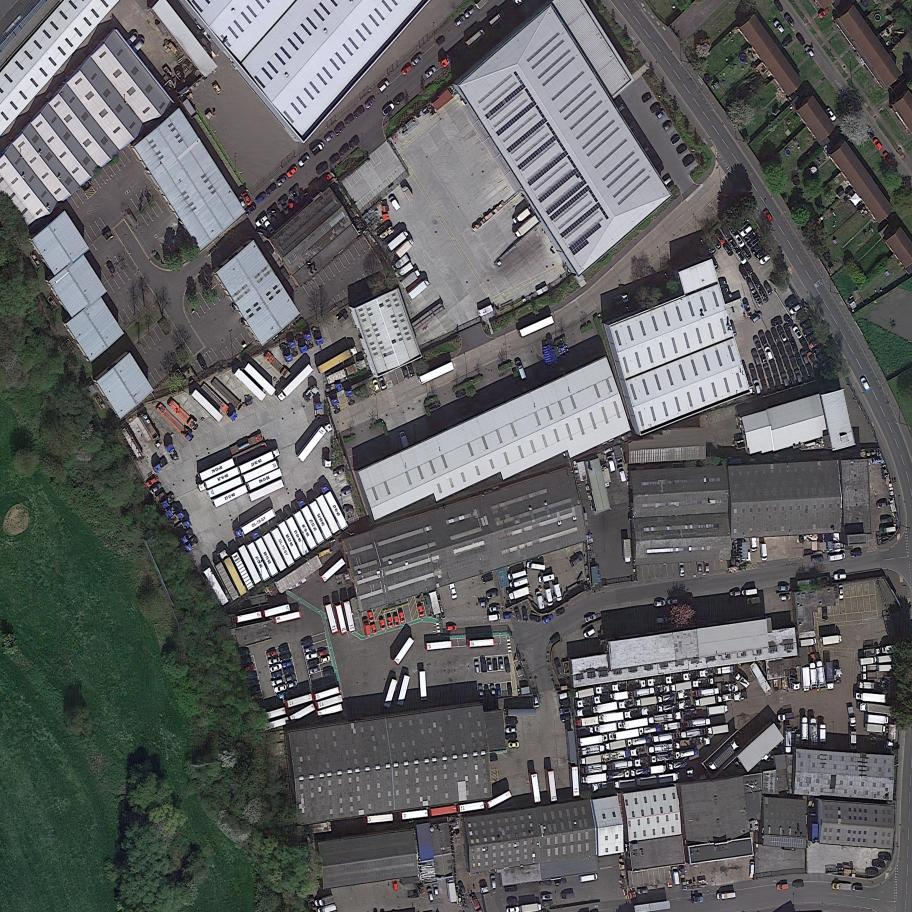large-vehicle: (295, 419, 335, 464), (198, 382, 239, 423), (154, 403, 196, 443), (318, 482, 351, 531), (275, 363, 315, 403), (231, 507, 278, 540), (217, 549, 248, 598), (250, 530, 280, 579), (296, 497, 326, 546), (315, 344, 360, 375), (196, 465, 242, 493), (237, 446, 282, 474), (705, 738, 741, 772), (167, 398, 201, 432), (418, 361, 456, 385), (138, 412, 163, 448), (518, 315, 555, 338), (392, 636, 417, 667), (319, 557, 348, 583), (513, 214, 541, 240), (406, 276, 433, 302), (856, 700, 895, 717), (288, 703, 317, 724), (484, 789, 513, 810), (386, 228, 411, 252), (464, 26, 489, 49), (258, 716, 290, 733), (400, 268, 424, 290), (394, 237, 417, 259), (383, 678, 399, 709), (324, 603, 339, 635), (853, 690, 887, 704), (316, 703, 344, 720), (285, 693, 314, 709), (397, 674, 411, 707), (616, 717, 649, 731), (608, 728, 640, 742), (511, 207, 533, 227), (263, 603, 292, 618), (314, 686, 341, 702), (487, 9, 508, 29), (316, 695, 344, 710), (579, 734, 609, 748), (601, 749, 631, 763), (394, 261, 416, 280), (343, 601, 356, 632), (335, 604, 348, 635), (390, 253, 411, 272), (274, 611, 302, 625), (261, 707, 287, 722), (732, 671, 752, 690), (592, 701, 619, 715), (577, 744, 606, 757), (530, 773, 542, 804), (651, 731, 679, 744), (581, 763, 609, 776), (679, 727, 707, 740), (547, 770, 558, 803), (399, 809, 429, 821), (236, 611, 263, 624), (445, 877, 458, 904), (598, 711, 625, 724), (508, 586, 531, 601), (626, 735, 652, 748), (580, 773, 608, 785), (429, 805, 457, 817), (457, 801, 485, 813), (508, 576, 530, 591), (364, 813, 394, 824), (593, 722, 618, 735), (647, 742, 674, 754), (816, 660, 827, 689), (648, 713, 674, 725), (674, 748, 700, 760), (649, 752, 675, 764), (400, 184, 416, 203), (639, 724, 662, 737), (707, 723, 730, 736), (604, 739, 627, 752), (572, 686, 595, 699), (670, 680, 693, 693), (694, 695, 717, 708), (800, 666, 811, 693), (426, 640, 453, 651), (468, 638, 495, 649), (507, 568, 528, 582), (314, 894, 335, 908), (865, 714, 889, 726), (607, 769, 631, 781), (579, 754, 603, 766), (610, 759, 634, 771), (571, 766, 580, 798), (419, 670, 428, 701), (635, 695, 658, 707), (687, 717, 712, 728), (826, 661, 835, 691), (800, 716, 809, 746), (809, 717, 818, 747), (674, 710, 698, 721), (707, 705, 729, 717), (632, 687, 656, 698), (622, 538, 632, 564), (668, 760, 688, 773), (526, 560, 547, 572), (534, 590, 546, 611), (388, 194, 402, 212), (809, 662, 818, 690), (577, 716, 599, 727), (784, 724, 792, 754), (519, 902, 543, 912), (696, 687, 720, 697), (822, 635, 843, 646), (847, 705, 857, 728), (673, 738, 692, 750), (649, 764, 668, 776), (544, 588, 555, 608), (865, 723, 887, 733), (630, 767, 650, 778), (662, 721, 682, 732), (690, 736, 710, 747), (882, 644, 901, 655), (610, 690, 629, 701), (577, 725, 594, 737), (553, 583, 563, 603), (858, 656, 878, 666), (538, 573, 556, 584), (863, 647, 881, 658), (716, 665, 735, 675), (818, 723, 827, 744), (778, 711, 795, 722), (858, 681, 878, 690), (861, 671, 879, 681), (800, 637, 817, 647), (849, 730, 857, 751), (861, 664, 879, 673), (832, 883, 852, 891), (717, 693, 733, 703), (880, 525, 897, 534), (878, 665, 893, 673)
small-vehicle: (129, 35, 147, 55), (122, 30, 140, 48), (515, 358, 527, 380), (310, 141, 326, 156), (398, 430, 410, 449), (409, 52, 424, 67), (381, 102, 396, 117), (392, 91, 407, 106), (254, 213, 269, 228), (569, 553, 585, 567), (782, 313, 796, 329), (801, 325, 817, 339), (807, 336, 823, 350), (707, 253, 720, 270), (315, 161, 330, 175), (738, 224, 753, 238), (648, 100, 663, 114), (798, 318, 813, 332), (727, 319, 738, 338), (799, 348, 811, 365), (716, 891, 736, 901), (377, 79, 391, 93), (265, 202, 279, 216), (824, 107, 837, 122), (784, 296, 799, 309), (746, 236, 761, 249), (733, 233, 746, 248), (742, 230, 757, 243), (720, 225, 733, 240), (714, 230, 727, 245), (735, 250, 748, 265), (710, 235, 723, 250), (652, 163, 667, 176), (805, 331, 820, 344), (821, 358, 836, 371), (859, 376, 871, 392), (579, 873, 598, 883), (758, 330, 769, 347), (424, 66, 438, 79), (453, 15, 467, 28), (288, 183, 301, 197), (352, 106, 366, 119), (323, 131, 337, 144), (297, 154, 311, 167), (682, 155, 696, 168), (265, 202, 279, 215), (285, 165, 299, 178), (149, 482, 163, 495), (773, 20, 786, 34), (758, 253, 772, 266), (750, 242, 764, 255), (718, 284, 732, 297), (792, 325, 804, 340), (606, 455, 616, 473), (828, 552, 846, 562), (263, 220, 275, 235), (784, 13, 796, 28), (762, 208, 774, 223), (722, 242, 734, 257), (743, 262, 755, 277), (799, 337, 811, 352), (427, 400, 442, 412), (777, 326, 788, 342), (770, 327, 781, 343), (783, 340, 794, 356), (805, 363, 816, 379), (796, 578, 815, 587), (671, 866, 680, 885), (748, 363, 758, 380), (617, 466, 627, 483), (789, 336, 799, 353), (362, 618, 372, 635), (513, 605, 523, 622), (328, 152, 341, 165), (364, 96, 377, 109), (276, 193, 289, 206), (338, 145, 351, 158), (333, 123, 346, 136), (265, 183, 278, 196), (626, 118, 639, 131), (750, 312, 764, 324), (769, 315, 783, 327), (784, 297, 798, 309), (817, 7, 831, 19), (788, 303, 802, 315), (197, 357, 209, 371), (784, 14, 796, 28), (728, 238, 740, 252), (751, 276, 763, 290), (640, 143, 654, 155), (811, 343, 825, 355), (332, 466, 347, 477), (770, 344, 781, 359), (759, 288, 770, 303), (753, 293, 764, 308), (751, 350, 761, 366), (765, 330, 775, 346), (758, 349, 768, 365), (787, 369, 797, 385), (783, 323, 793, 339), (782, 355, 792, 371), (269, 215, 279, 231), (400, 64, 413, 76), (348, 137, 361, 149), (343, 114, 356, 126), (244, 204, 257, 216), (255, 192, 268, 204), (276, 175, 289, 187), (795, 33, 807, 46), (872, 138, 884, 151), (145, 476, 158, 488), (783, 315, 795, 328), (781, 37, 794, 49), (754, 248, 767, 260), (622, 112, 635, 124), (242, 192, 253, 206), (264, 220, 275, 234), (804, 45, 815, 59), (741, 246, 752, 260), (739, 267, 750, 281), (806, 350, 817, 364), (471, 896, 482, 910), (481, 574, 495, 585), (558, 697, 572, 708), (105, 260, 116, 274), (794, 351, 803, 368), (449, 583, 458, 600), (753, 336, 763, 351), (764, 346, 774, 361), (780, 372, 790, 387), (776, 341, 786, 356), (753, 379, 762, 395), (756, 364, 765, 380), (773, 373, 782, 389), (760, 543, 768, 561), (275, 208, 283, 226), (641, 91, 653, 103), (800, 365, 809, 381), (521, 605, 529, 623), (722, 291, 734, 303), (583, 628, 596, 639), (774, 0, 785, 13), (882, 151, 893, 164), (816, 351, 829, 362), (454, 388, 467, 399), (812, 362, 822, 376), (714, 279, 728, 289), (486, 589, 500, 599), (554, 660, 564, 674), (269, 663, 283, 673), (273, 684, 287, 694), (794, 368, 803, 383), (767, 376, 776, 391), (789, 354, 798, 369), (763, 363, 772, 378), (769, 359, 778, 374), (776, 358, 785, 373), (746, 596, 761, 605), (749, 537, 758, 552), (281, 204, 290, 219), (464, 7, 476, 18), (655, 109, 667, 120), (662, 121, 674, 132), (670, 135, 682, 146), (676, 145, 688, 156), (763, 283, 774, 295), (321, 173, 333, 184), (614, 103, 626, 114), (435, 34, 446, 46), (584, 613, 597, 623), (541, 614, 554, 624), (747, 281, 757, 294), (550, 634, 563, 644), (560, 713, 573, 723), (322, 667, 335, 677), (270, 677, 283, 687), (457, 881, 467, 894), (742, 588, 758, 596), (407, 364, 416, 378), (269, 663, 283, 672), (238, 195, 247, 209), (865, 867, 879, 876), (542, 614, 554, 624), (560, 892, 575, 900), (748, 860, 756, 875), (426, 887, 434, 902), (378, 377, 387, 390), (760, 379, 769, 392), (401, 367, 410, 380), (342, 505, 355, 514), (270, 678, 283, 687), (584, 614, 597, 623), (554, 877, 567, 886), (506, 897, 519, 906), (279, 652, 292, 661), (301, 638, 314, 647), (307, 658, 320, 667), (286, 680, 299, 689), (267, 657, 281, 665), (293, 195, 300, 211), (878, 852, 892, 860), (872, 860, 886, 868), (504, 885, 518, 893), (555, 607, 566, 617), (340, 488, 352, 497), (771, 318, 783, 327), (278, 645, 290, 654), (283, 666, 295, 675), (303, 645, 315, 654), (317, 648, 329, 657), (285, 673, 297, 682), (504, 658, 511, 673), (490, 874, 497, 889), (372, 379, 380, 392), (776, 883, 789, 891), (488, 613, 501, 621), (305, 652, 318, 660), (267, 657, 280, 665), (816, 576, 830, 583), (298, 190, 305, 204), (288, 201, 295, 215), (480, 658, 487, 672), (367, 611, 375, 623), (370, 623, 378, 635), (398, 612, 406, 624), (850, 550, 862, 558), (271, 671, 283, 679), (532, 696, 540, 708), (559, 707, 571, 715), (489, 604, 501, 612), (529, 615, 541, 623), (277, 691, 289, 699), (281, 660, 293, 668), (418, 605, 425, 618), (834, 573, 847, 580), (880, 517, 893, 524), (821, 607, 828, 620), (696, 561, 703, 574), (489, 684, 496, 697), (392, 879, 399, 892), (478, 685, 484, 700), (876, 501, 887, 509), (320, 655, 331, 663), (308, 666, 319, 674), (266, 650, 277, 658), (379, 619, 386, 631), (838, 585, 844, 599), (779, 594, 791, 601), (654, 600, 666, 607), (679, 563, 685, 577), (852, 885, 864, 892), (506, 683, 513, 695), (533, 696, 540, 708), (371, 624, 378, 636), (506, 726, 518, 733), (508, 742, 520, 749), (505, 733, 517, 740), (503, 612, 513, 620), (704, 561, 710, 574), (539, 880, 552, 886), (474, 661, 480, 674), (498, 658, 504, 671), (505, 719, 518, 725), (433, 883, 439, 896), (266, 650, 277, 657), (667, 598, 678, 605), (637, 887, 648, 894), (793, 881, 804, 888), (387, 617, 394, 628), (387, 616, 393, 628), (811, 556, 823, 562), (729, 591, 741, 597), (496, 684, 502, 696), (656, 617, 667, 623), (793, 882, 804, 888), (542, 894, 553, 900), (446, 625, 457, 631), (493, 658, 498, 671), (487, 659, 492, 671), (394, 616, 399, 627), (779, 586, 789, 591)
